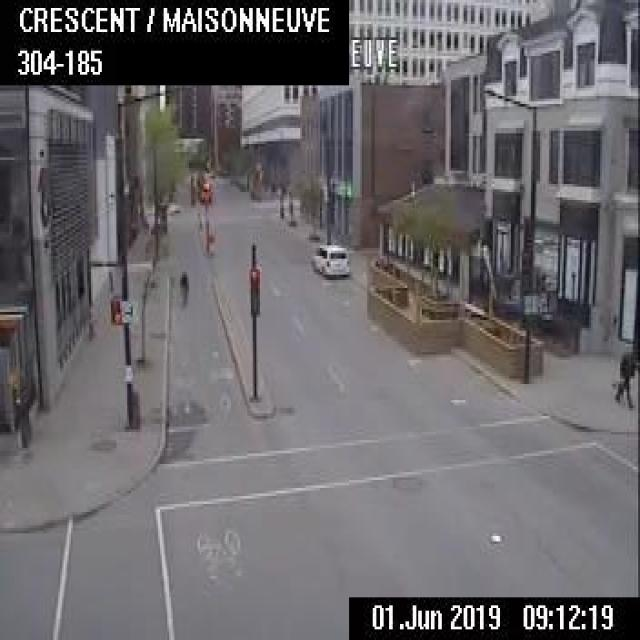cyclist: (176, 266, 188, 314)
pedestrian: (609, 347, 638, 408)
vehicle: (309, 240, 349, 277)
